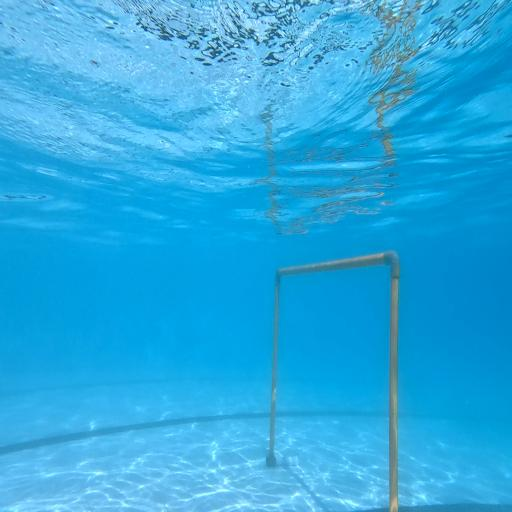gate: (266, 251, 400, 512)
